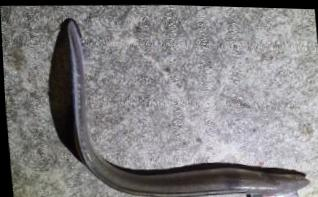fish: (62, 17, 310, 197)
